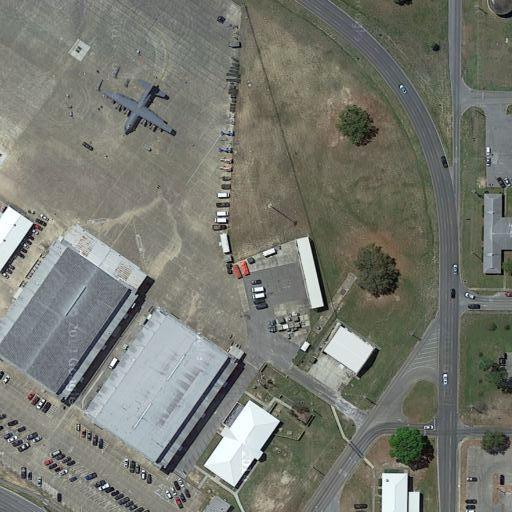C-130: (103, 71, 177, 138)
